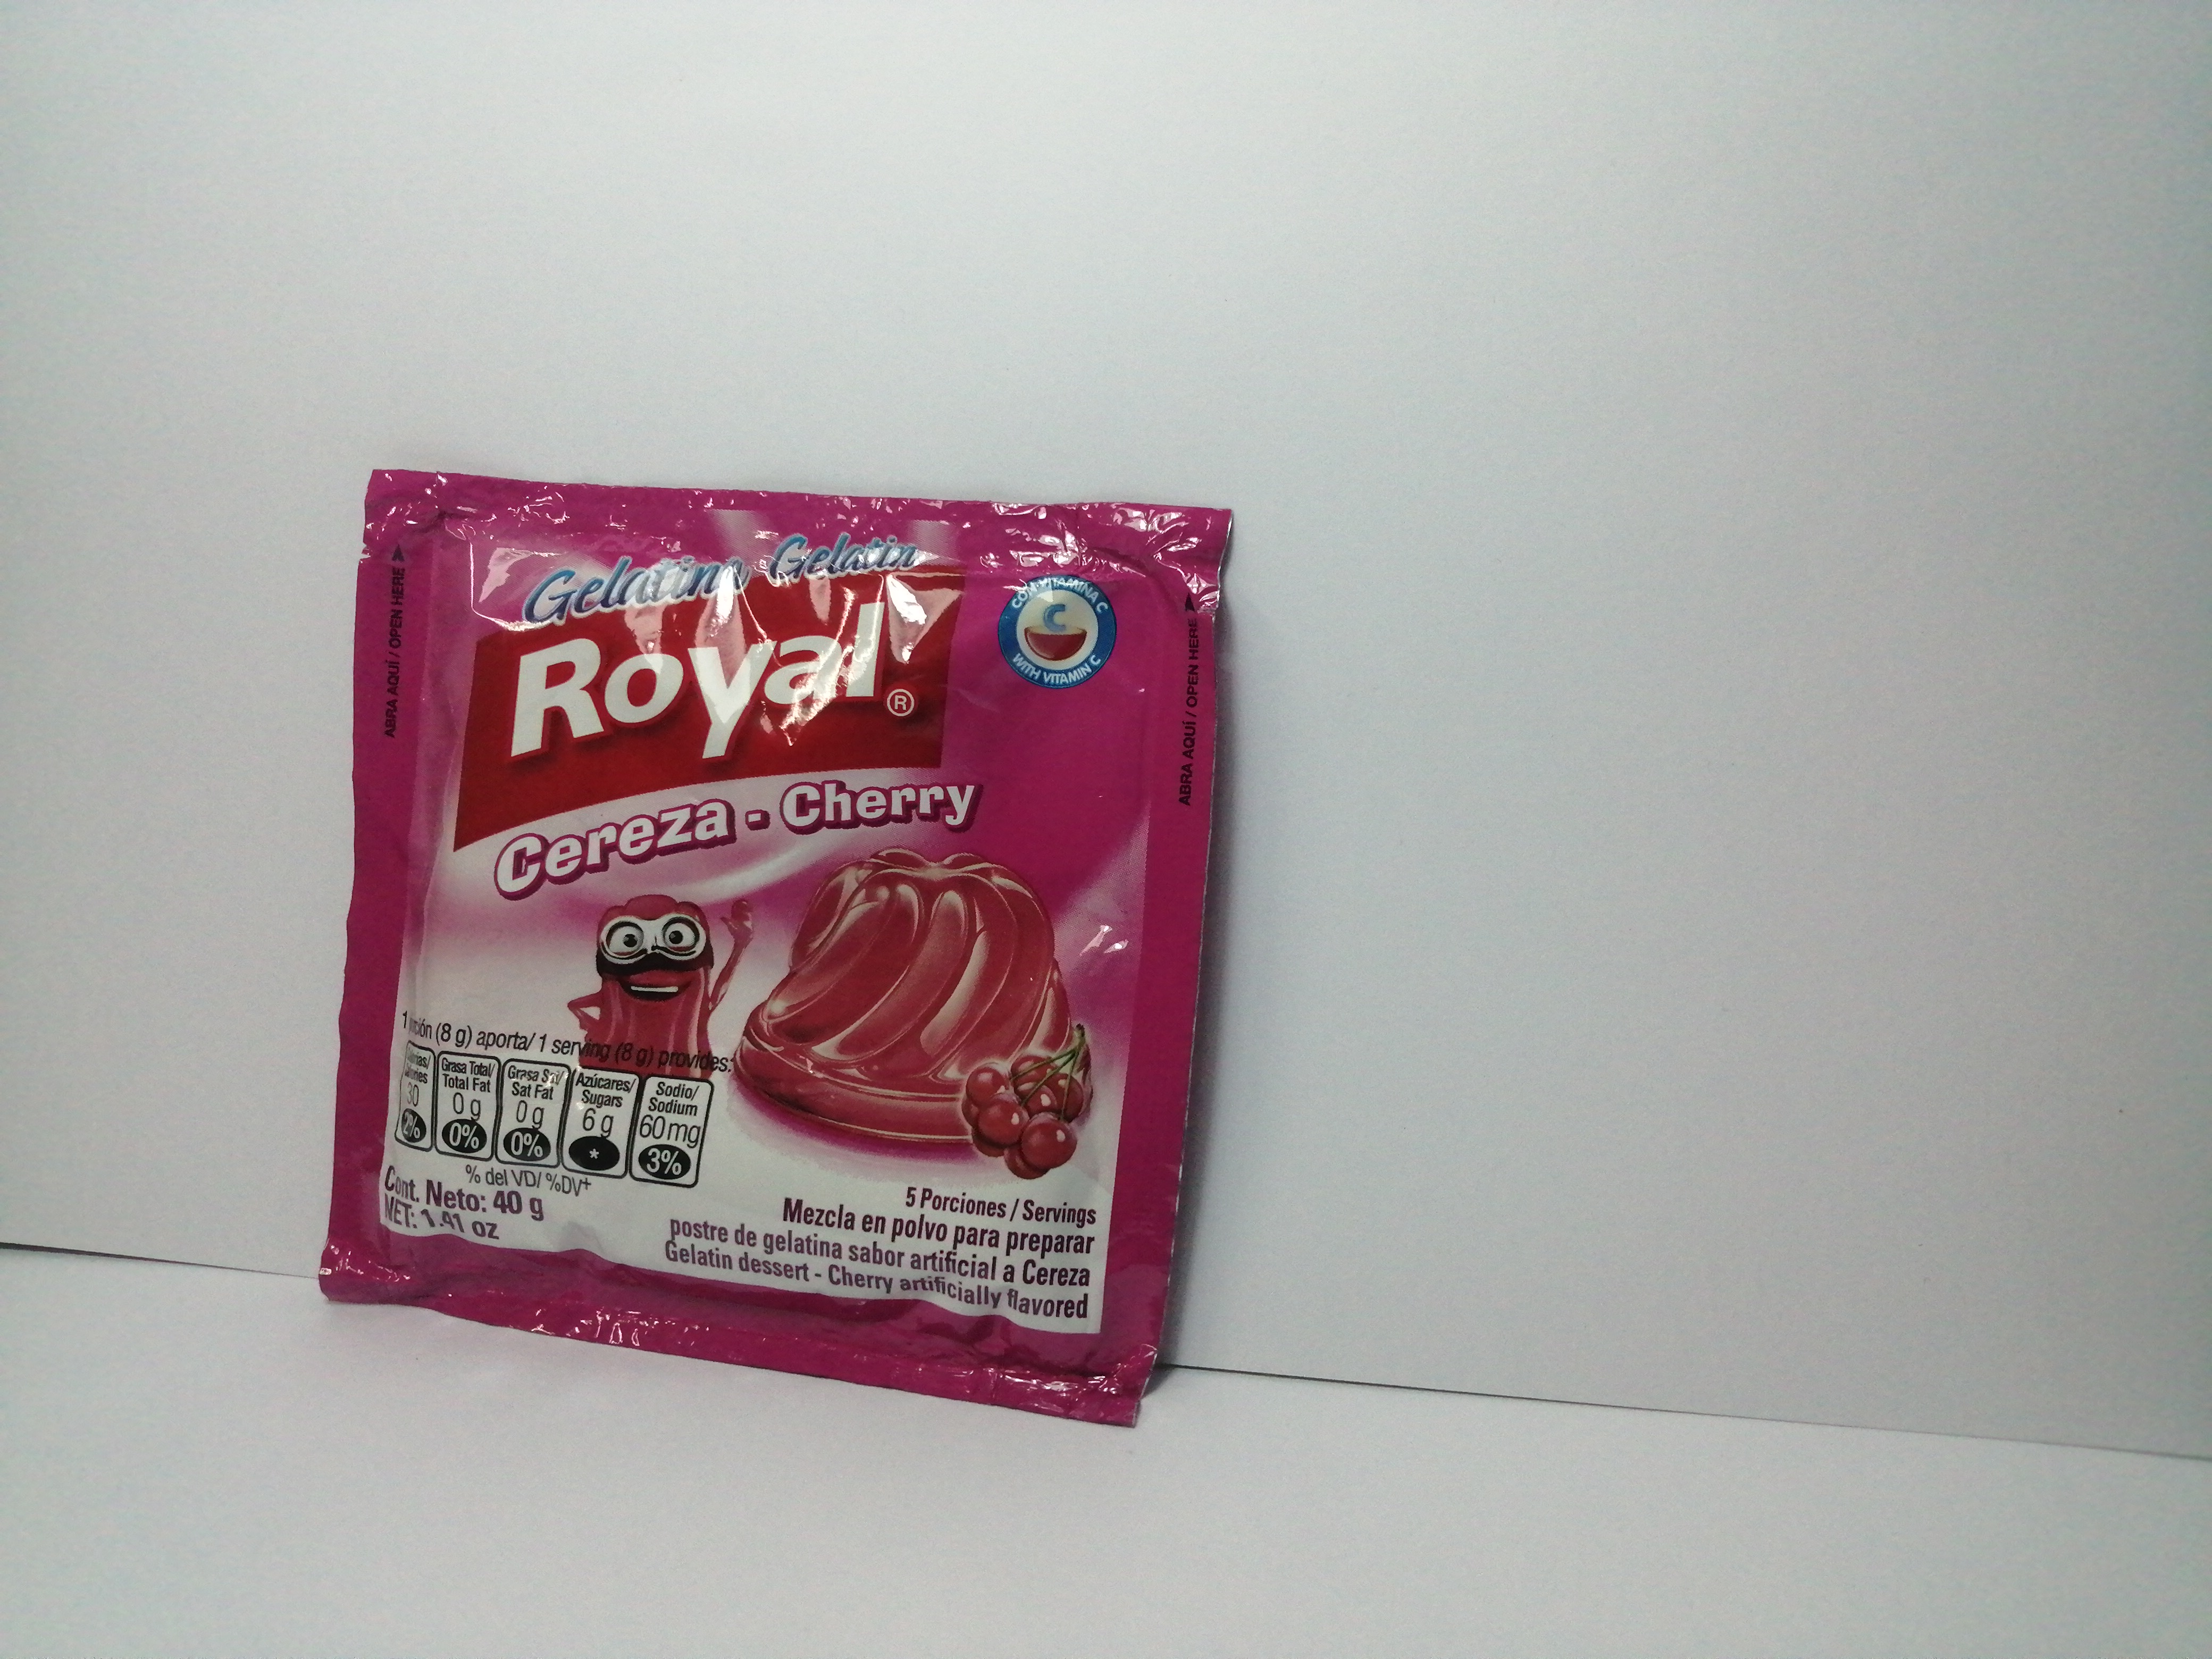gelatina: (320, 462, 1235, 1438)
